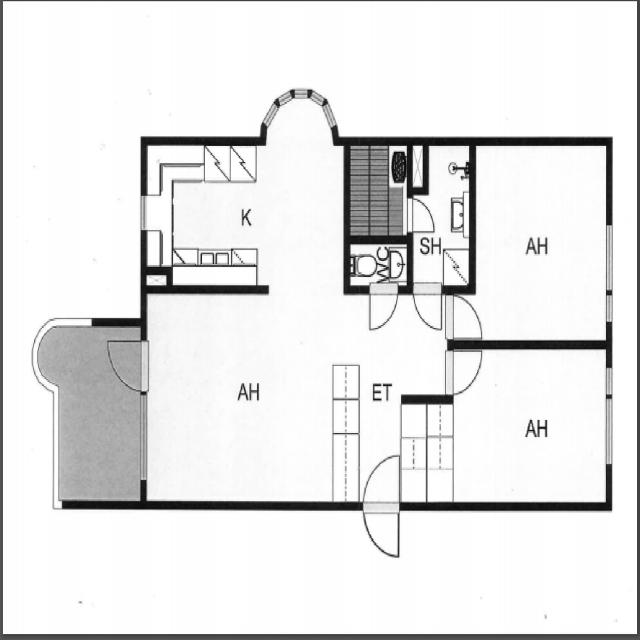door: (146, 289, 365, 506), (408, 141, 471, 285), (258, 84, 346, 143), (361, 451, 404, 562), (102, 329, 153, 392), (447, 290, 488, 341), (302, 88, 338, 145), (448, 345, 486, 396), (258, 87, 296, 138), (364, 282, 400, 333), (412, 281, 445, 332), (403, 195, 439, 239)
window: (602, 218, 617, 329), (258, 87, 292, 135), (601, 364, 616, 471), (136, 390, 150, 483), (136, 187, 152, 237)
zone: (145, 140, 348, 290), (468, 140, 610, 344), (442, 345, 616, 508), (411, 141, 471, 290), (347, 140, 408, 240), (352, 256, 407, 326), (345, 240, 411, 286)
